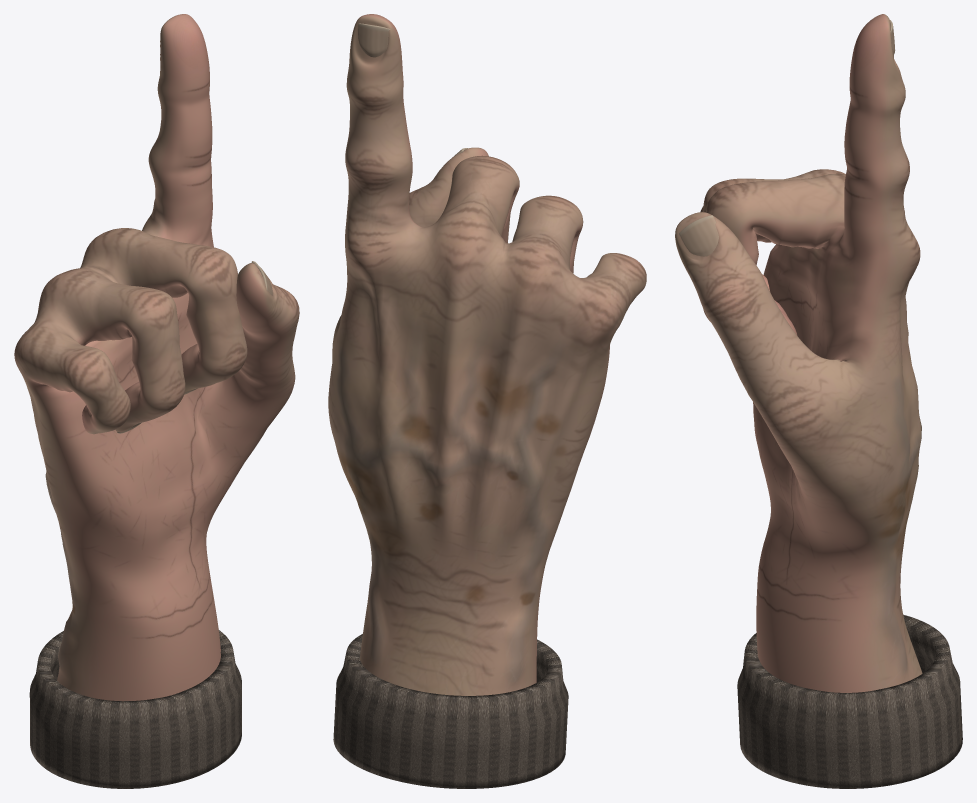
The model's file is PH_Hand__Pointer80.fbx.
The picture shows the model from 3 angles, left to right: view 1: azimuth 30°, elevation 25°; view 2: azimuth 150°, elevation 25°; view 3: azimuth 270°, elevation 25°; orthographic projection. The views are drawn at different scales.
Parts seen in each view (by area): view 1: PH_Hand__Pointer80; view 2: PH_Hand__Pointer80; view 3: PH_Hand__Pointer80.
Part boxes in pixels (box(x1,y1,x2,y2)): PH_Hand__Pointer80: box(14, 14, 299, 788); PH_Hand__Pointer80: box(328, 14, 646, 788); PH_Hand__Pointer80: box(675, 14, 962, 788).
Bounding box in the file's own units: 0.0698 × 0.175 × 0.06.
